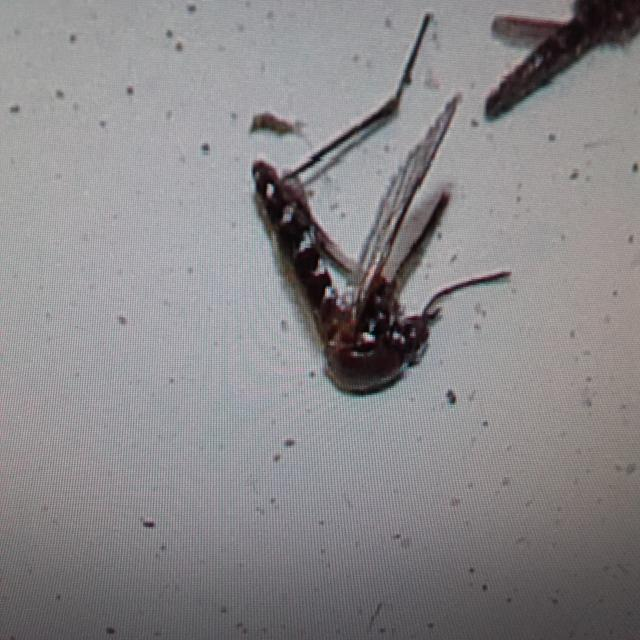albopictus: (228, 17, 534, 392)
